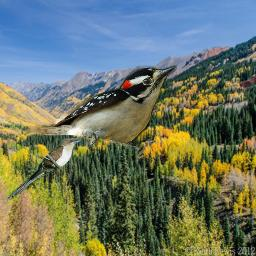Cuckoo: (6, 137, 83, 202)
Woodpecker: (23, 62, 177, 150)
